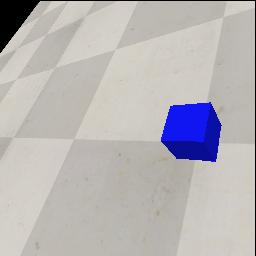box: (161, 102, 222, 162)
